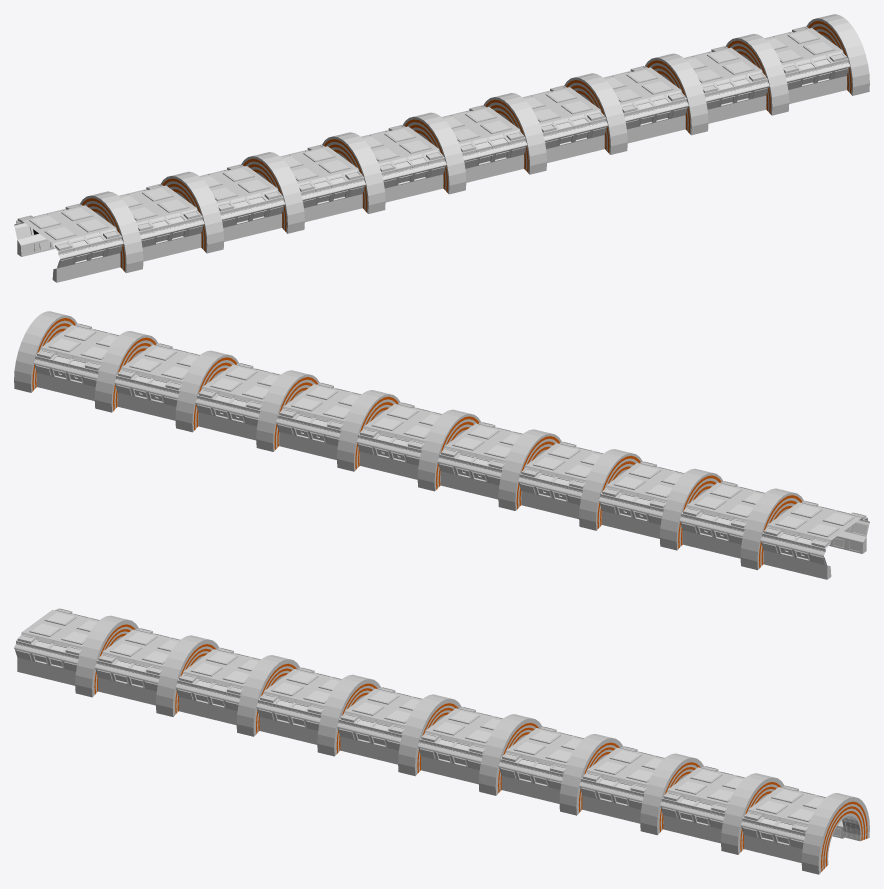
3 renders of one model, top to bottom at view 1: azimuth 30°, elevation 25°; view 2: azimuth 150°, elevation 25°; view 3: azimuth 330°, elevation 25°, orthographic.
Parts seen in each view (by area): view 1: Cylinder; view 2: Cylinder; view 3: Cylinder.
Boxes of the visible parts, left/top/right/bottom form: Cylinder: left=14, top=14, right=869, bottom=282; Cylinder: left=14, top=311, right=869, bottom=579; Cylinder: left=14, top=608, right=869, bottom=874.
Size of the model in its own units: 9502 by 626 by 1048.
